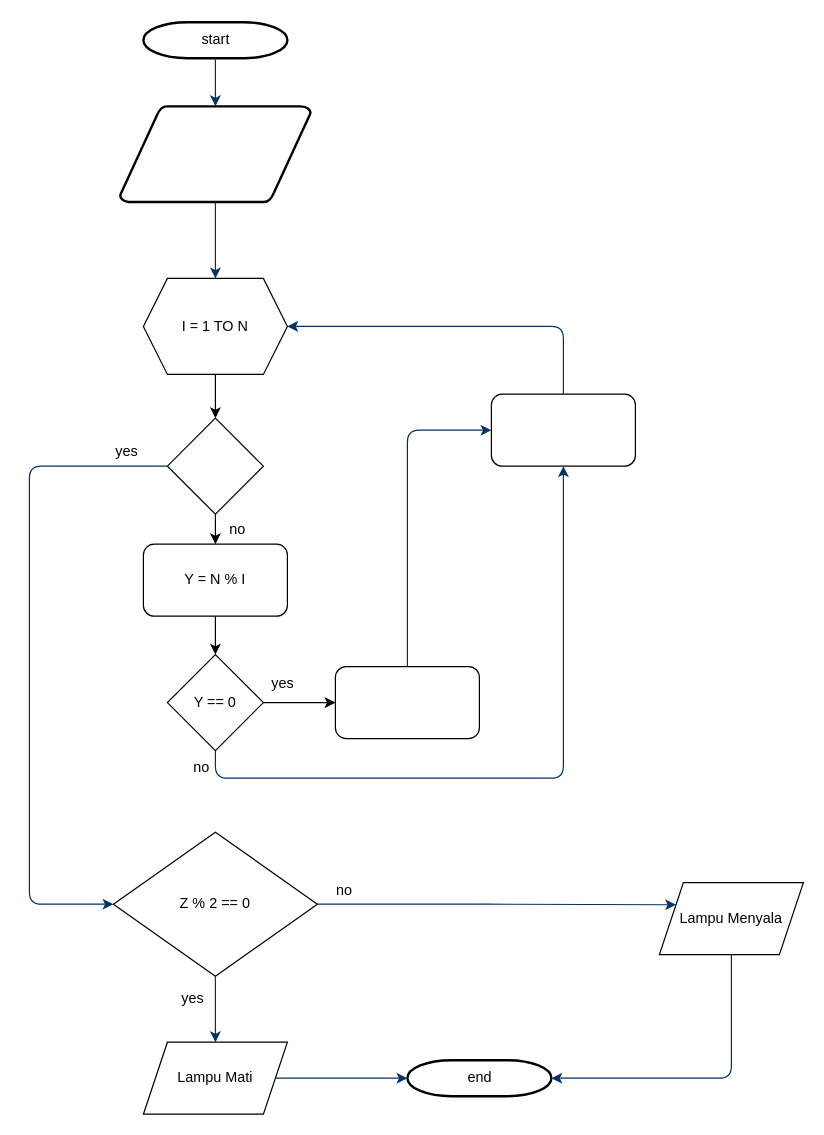
The diagram is 824 pixels wide and 1135 high, and some of its shapes have lost their labels. The centre of each missing label's shape, as x and y in pixels:
I ++: the point at 562,429
I > N: the point at 214,465
Input N: the point at 214,153
Z ++: the point at 406,702
